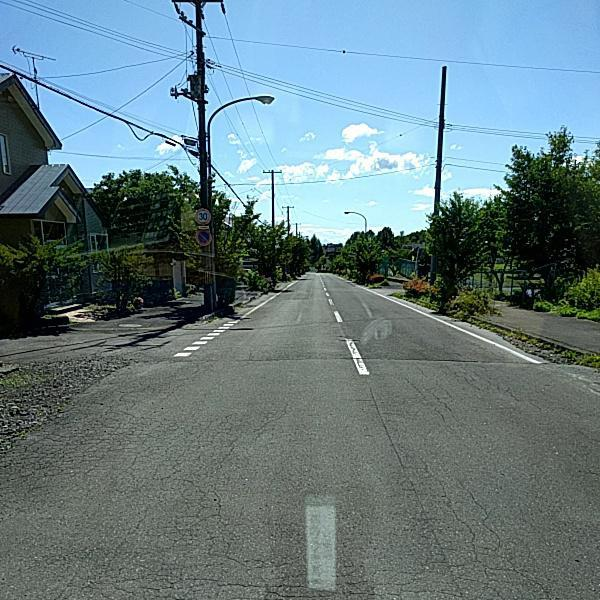D20: (7, 391, 319, 594), (395, 367, 563, 594)
